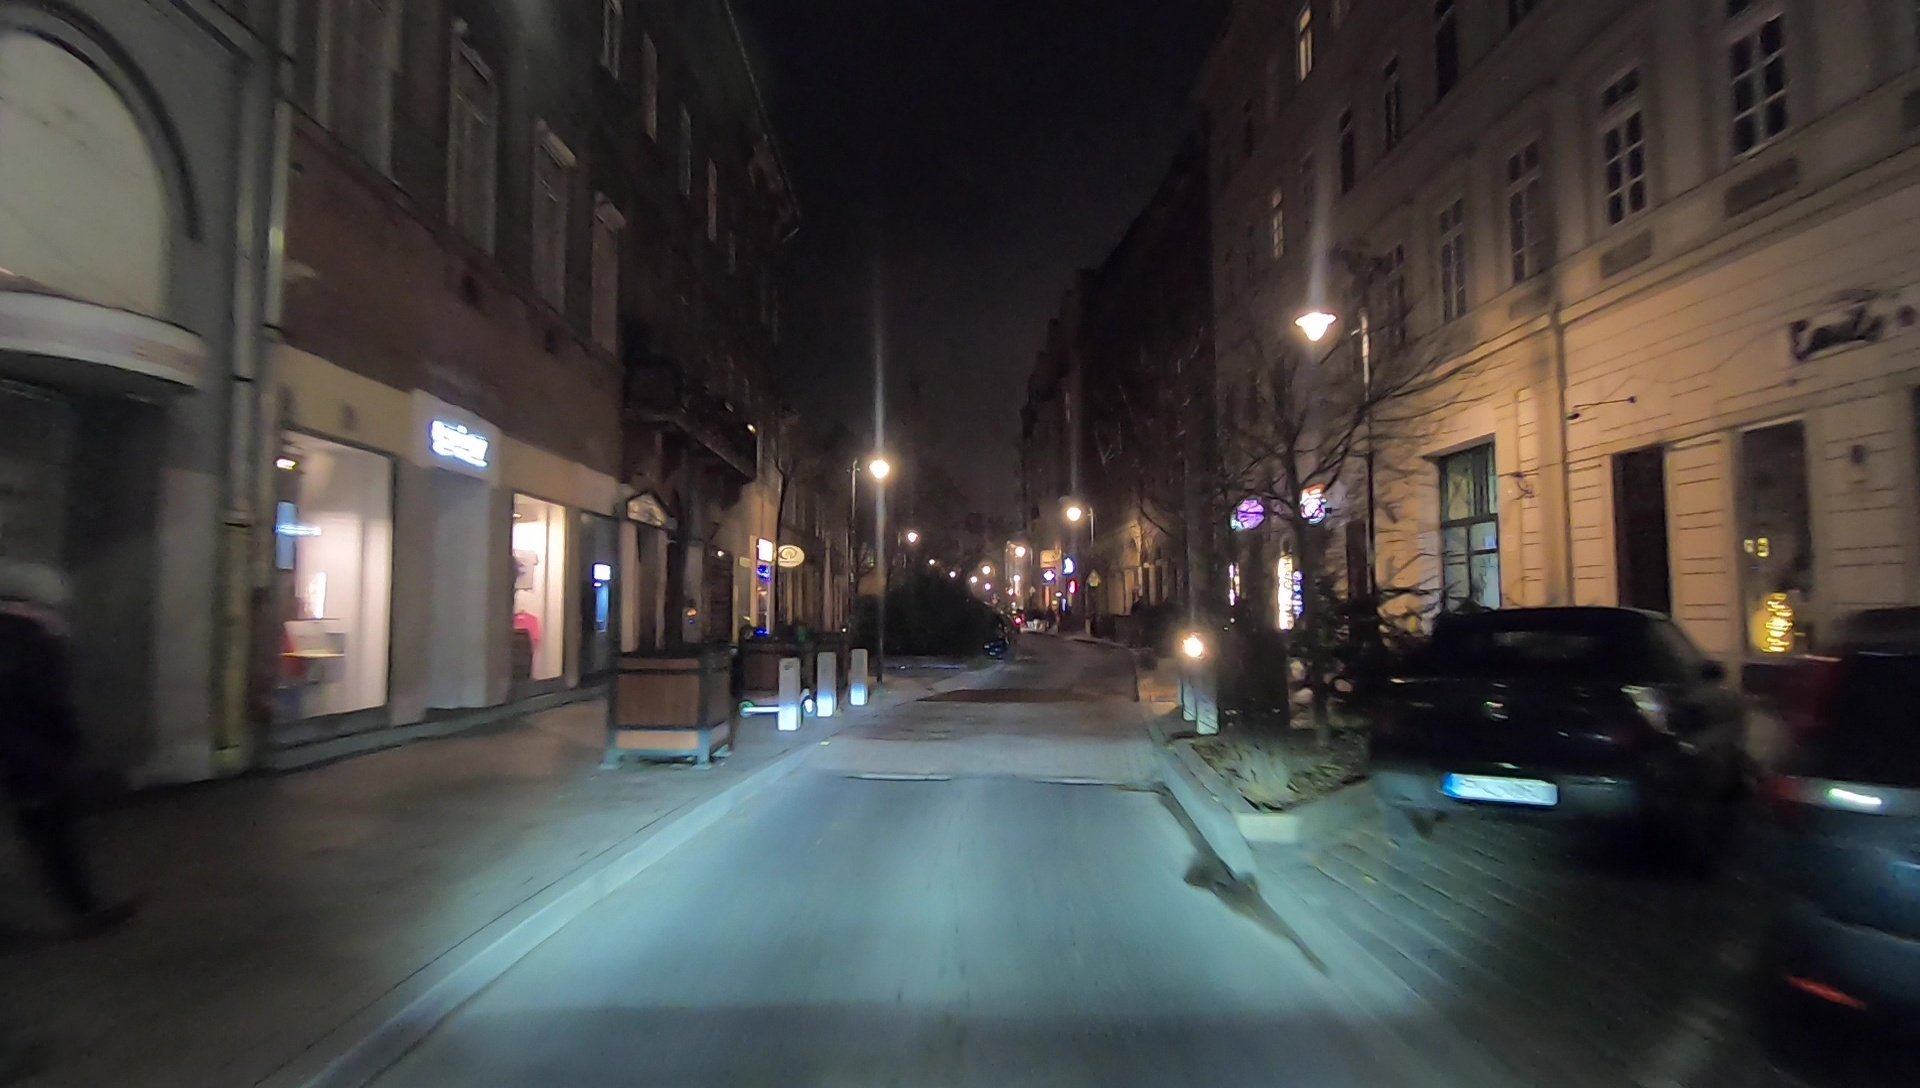person: (1, 563, 156, 930)
